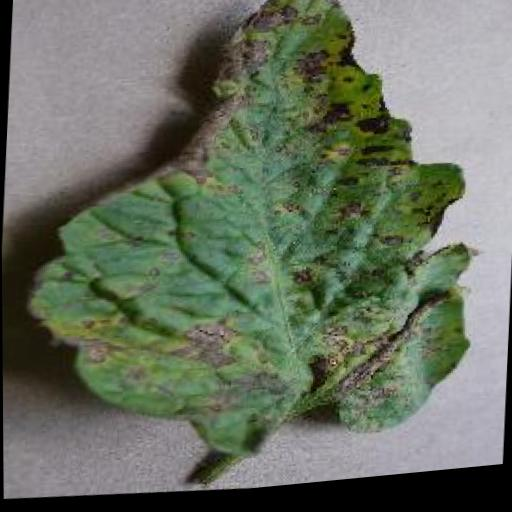Early Blight: (25, 0, 490, 487)
